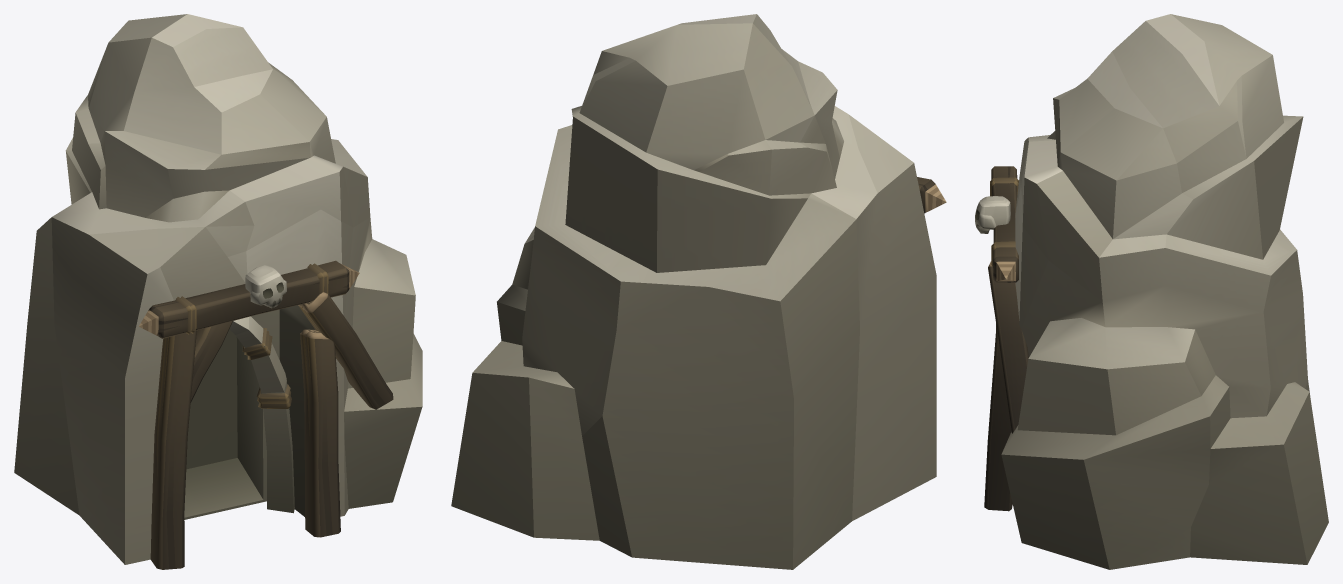
File: orc_mine_enterance.fbx
3 renders of one model, left to right at view 1: azimuth 30°, elevation 25°; view 2: azimuth 150°, elevation 25°; view 3: azimuth 270°, elevation 25°, orthographic. The views are drawn at different scales.
Parts seen in each view (by area): view 1: orc_mine_enterance; view 2: orc_mine_enterance; view 3: orc_mine_enterance.
Part boxes in pixels (<box>): orc_mine_enterance: <box>14,14,422,569</box>; orc_mine_enterance: <box>451,14,946,569</box>; orc_mine_enterance: <box>975,14,1328,569</box>.
Size of the model in its own units: 724 by 962 by 684.
